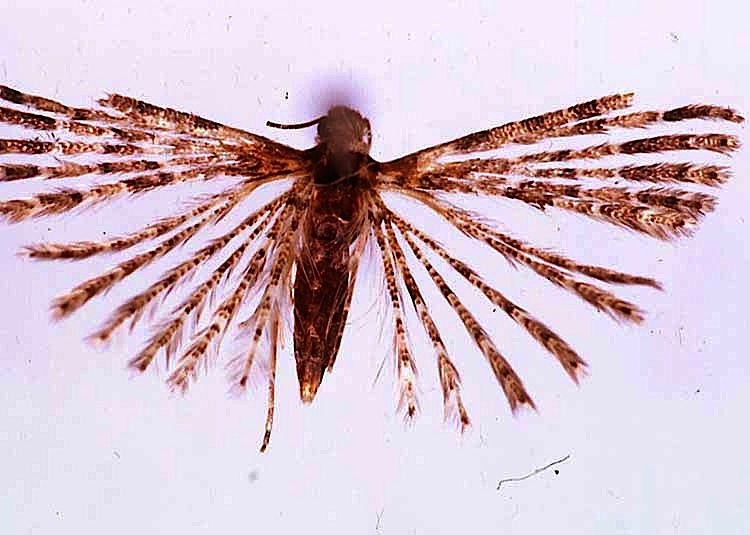Alucitidae: (1, 71, 746, 470)
moth: (3, 73, 748, 472)
